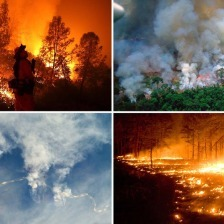incendio: (2, 5, 104, 103), (126, 114, 222, 214), (9, 139, 108, 214), (121, 44, 222, 106)
